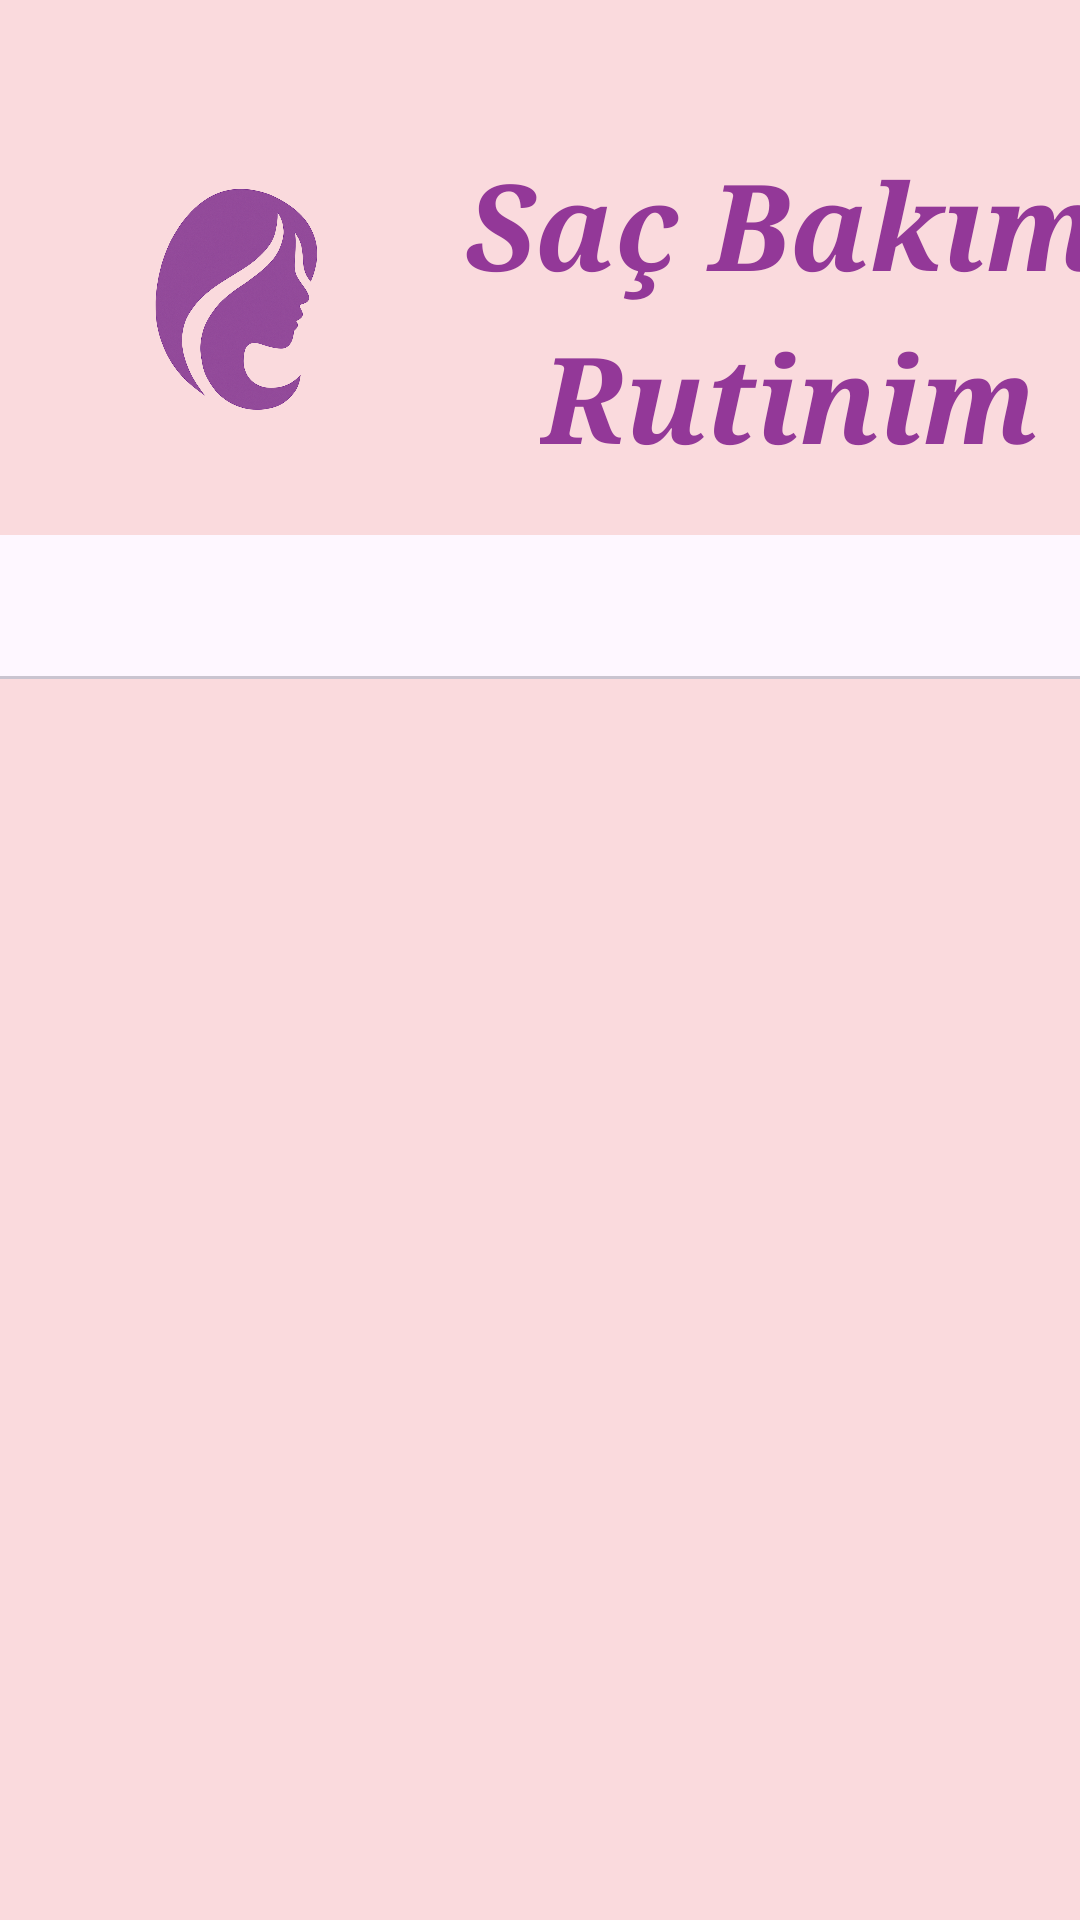

Screen size 1080px×1920px. Icon name, then its box in pixels as Rect(x1, y1, x2, y2):
resim: Rect(155, 189, 317, 410)
